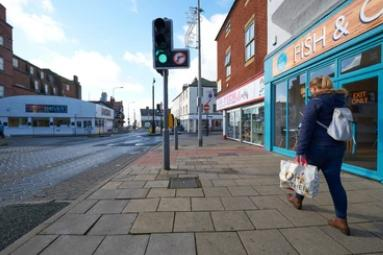green_light: (153, 18, 173, 69)
